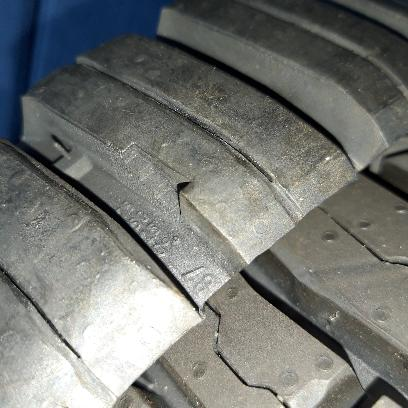temoin:100: (105, 136, 196, 233)
